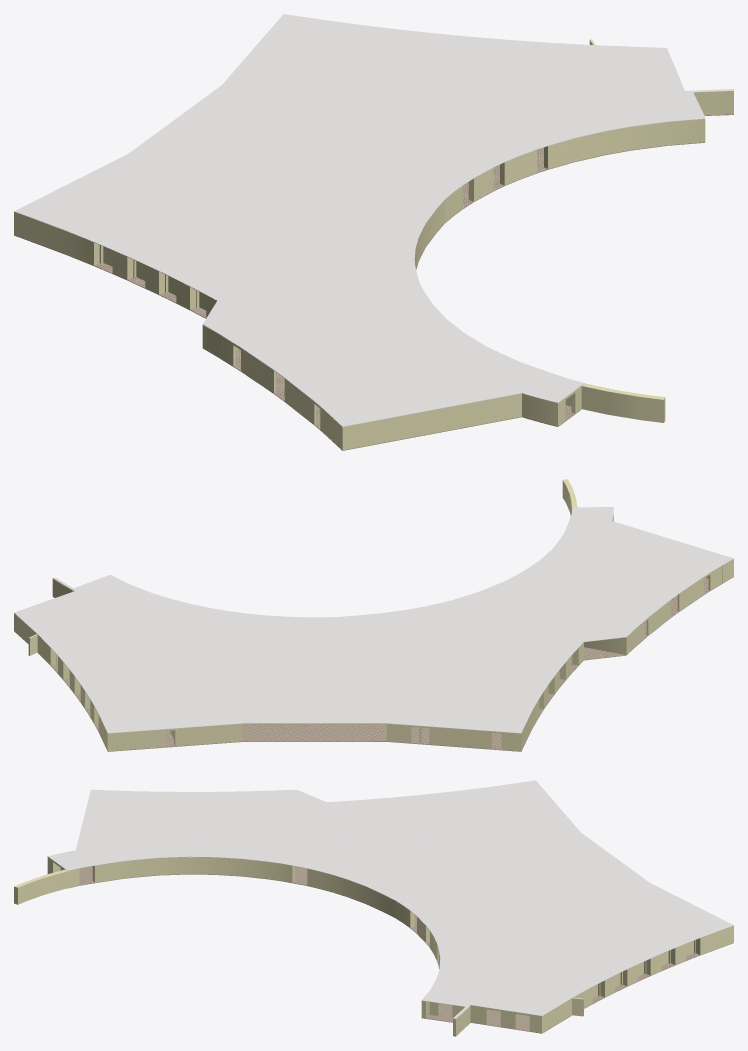
The model's file is SM_Parliament.glb.
The picture shows the model from 3 angles, top to bottom: view 1: azimuth 30°, elevation 25°; view 2: azimuth 150°, elevation 25°; view 3: azimuth 270°, elevation 25°; orthographic projection. The views are drawn at different scales.
Visible parts, largest first — view 1: Roof, Walls, Floor; view 2: Roof, Walls, Floor; view 3: Roof, Walls, Floor.
Part boxes in pixels (x1=…): Roof: x1=14, y1=14, x2=733, y2=426; Walls: x1=14, y1=39, x2=733, y2=450; Floor: x1=14, y1=114, x2=733, y2=450; Roof: x1=14, y1=507, x2=733, y2=733; Walls: x1=14, y1=479, x2=733, y2=751; Floor: x1=14, y1=577, x2=733, y2=751; Roof: x1=48, y1=780, x2=733, y2=1018; Walls: x1=14, y1=857, x2=733, y2=1036; Floor: x1=68, y1=866, x2=733, y2=1036.
Size of the model in its own units: 680 by 24.67 by 867.
4 materials, 3 textured.
